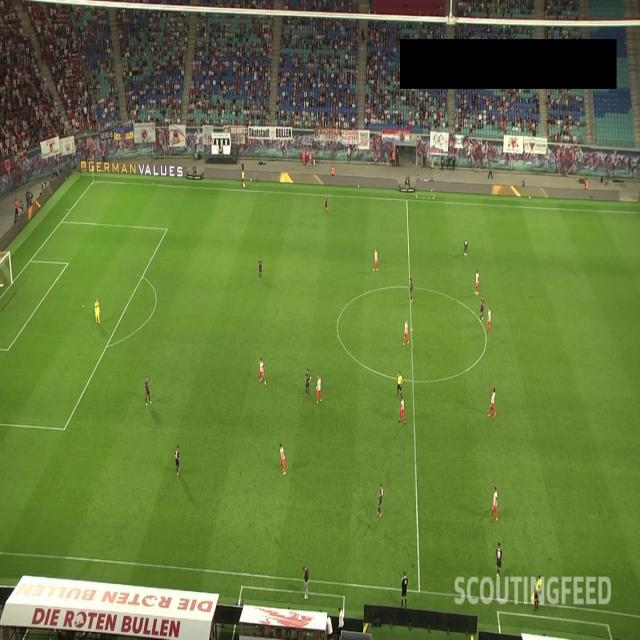player: (278, 441, 288, 475), (142, 377, 152, 407), (377, 483, 385, 519), (488, 386, 496, 420), (492, 487, 499, 525), (173, 441, 181, 474), (401, 316, 410, 345), (92, 300, 101, 326), (258, 358, 266, 386), (496, 540, 503, 572), (304, 367, 311, 398), (399, 395, 406, 425), (256, 253, 264, 279), (372, 245, 380, 271), (407, 276, 414, 305), (321, 190, 330, 212), (486, 305, 492, 334), (317, 372, 322, 402), (479, 295, 484, 320), (475, 272, 480, 294), (464, 236, 469, 254)
